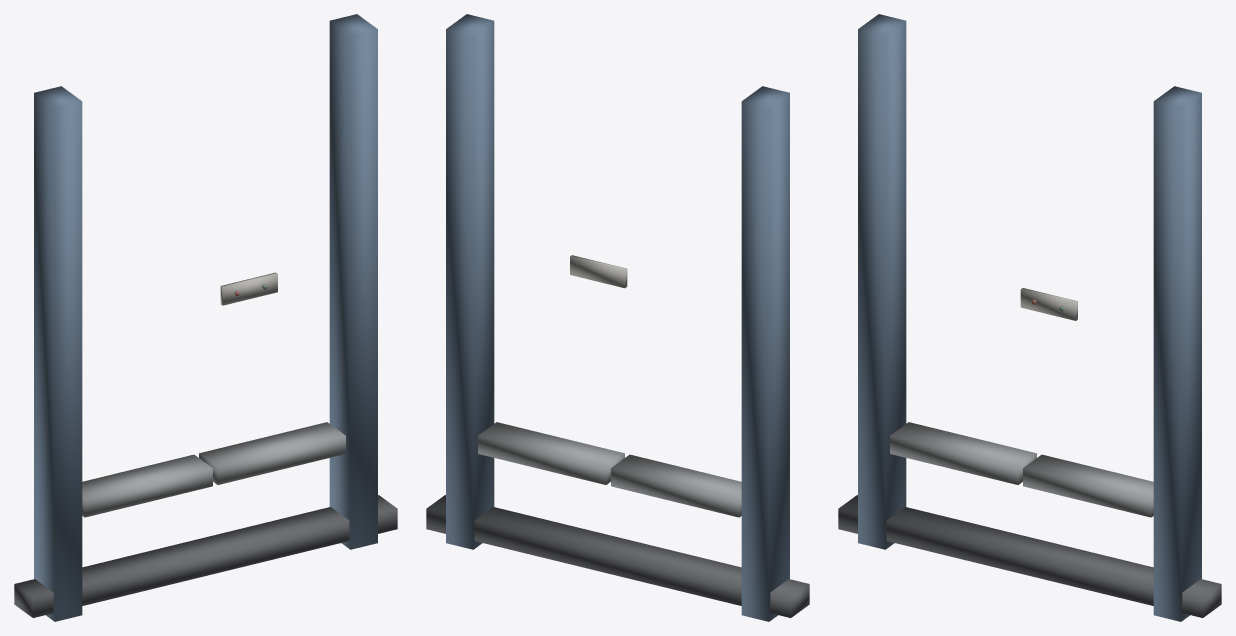
File: two_post_car_lift__compact.glb
The picture shows the model from 3 angles, left to right: view 1: azimuth 30°, elevation 25°; view 2: azimuth 150°, elevation 25°; view 3: azimuth 330°, elevation 25°; orthographic projection.
Parts seen in each view (by area): view 1: world; view 2: world; view 3: world.
Part boxes in pixels (<box>): world: <box>14,14,397,621</box>; world: <box>426,14,809,621</box>; world: <box>838,14,1221,621</box>.
Bounding box in the file's own units: 1.55 × 2.09 × 0.1815.
